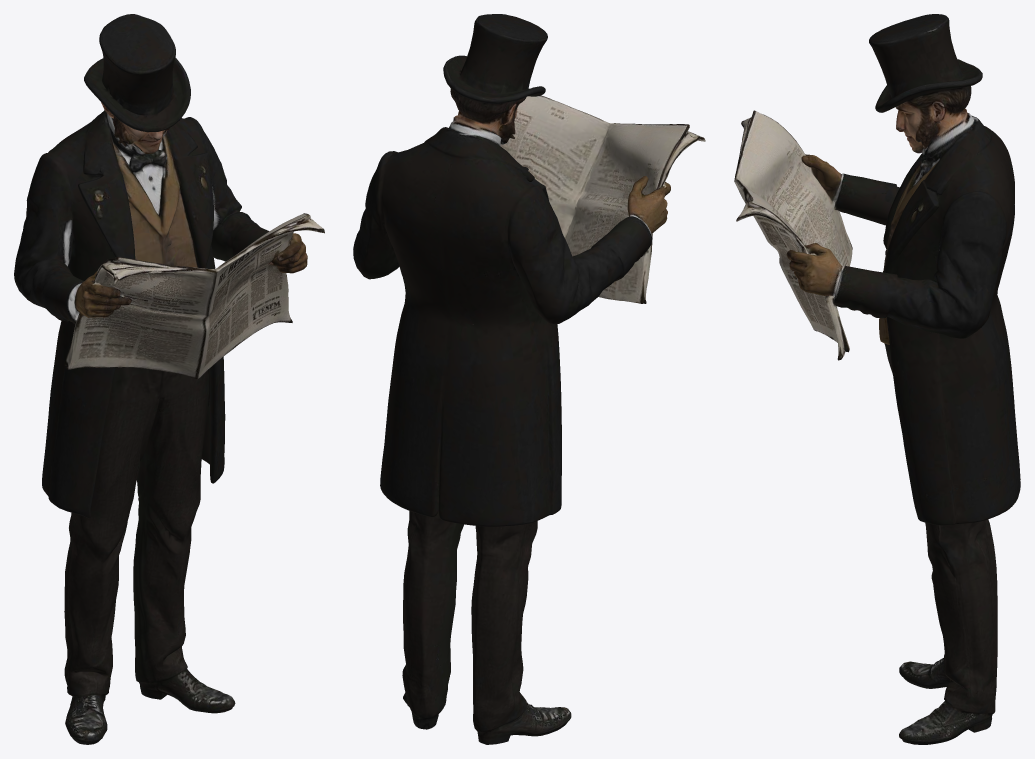
File: gentleman_reading_news_paper.glb
The picture shows the model from 3 angles, left to right: view 1: azimuth 30°, elevation 25°; view 2: azimuth 150°, elevation 25°; view 3: azimuth 270°, elevation 25°; orthographic projection. The views are drawn at different scales.
Visible parts, largest first — view 1: Gentleman_reading_news_paper_0; view 2: Gentleman_reading_news_paper_0; view 3: Gentleman_reading_news_paper_0.
Boxes of the visible parts, x1,y1,x2,y2 form: Gentleman_reading_news_paper_0: (14, 14, 324, 744); Gentleman_reading_news_paper_0: (353, 14, 705, 744); Gentleman_reading_news_paper_0: (734, 14, 1020, 744).
Size of the model in its own units: 2.85 by 7.84 by 2.97.
1 material, 1 textured.
